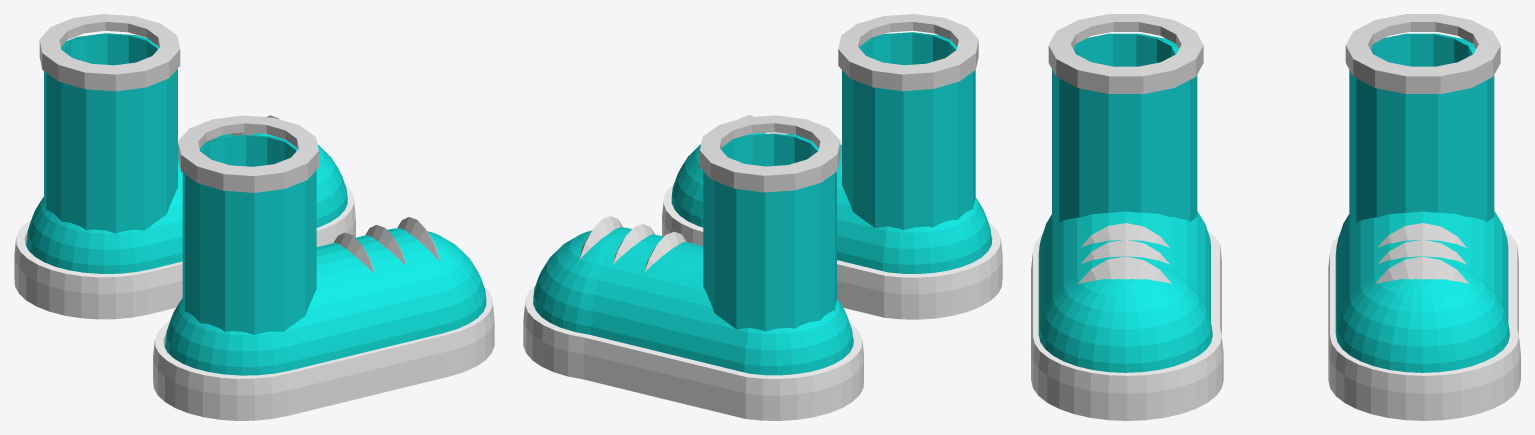
File: women shoes3 .fbx
The picture shows the model from 3 angles, left to right: view 1: azimuth 30°, elevation 25°; view 2: azimuth 150°, elevation 25°; view 3: azimuth 270°, elevation 25°; orthographic projection. The views are drawn at different scales.
Parts seen in each view (by area): view 1: Sphere.002, Cylinder.003, Cylinder.001, Sphere.003, Sphere, Sphere.001, Cylinder.002, Cylinder.004, Torus.003; view 2: Sphere, Cylinder.001, Cylinder.003, Sphere.001, Sphere.002, Sphere.003, Cylinder.002, Cylinder.004, Torus; view 3: Sphere, Sphere.002, Cylinder.003, Cylinder.001, Sphere.001, Sphere.003, Cylinder.002, Cylinder.004, Torus.003, Torus.
Part boxes in pixels (x1=…): Sphere.002: x1=165, y1=228, x2=486, y2=375; Cylinder.003: x1=182, y1=134, x2=316, y2=334; Cylinder.001: x1=44, y1=33, x2=177, y2=233; Sphere.003: x1=153, y1=286, x2=494, y2=420; Sphere: x1=26, y1=133, x2=347, y2=273; Sphere.001: x1=14, y1=185, x2=355, y2=319; Cylinder.002: x1=39, y1=14, x2=180, y2=91; Cylinder.004: x1=178, y1=115, x2=318, y2=192; Torus.003: x1=333, y1=217, x2=439, y2=273; Sphere: x1=533, y1=227, x2=853, y2=375; Cylinder.001: x1=703, y1=133, x2=836, y2=331; Cylinder.003: x1=842, y1=32, x2=975, y2=230; Sphere.001: x1=523, y1=285, x2=863, y2=420; Sphere.002: x1=671, y1=132, x2=991, y2=273; Sphere.003: x1=662, y1=184, x2=1002, y2=319; Cylinder.002: x1=700, y1=115, x2=840, y2=192; Cylinder.004: x1=838, y1=14, x2=978, y2=91; Torus: x1=579, y1=216, x2=686, y2=272; Sphere: x1=1335, y1=211, x2=1509, y2=372; Sphere.002: x1=1038, y1=211, x2=1212, y2=372; Cylinder.003: x1=1052, y1=33, x2=1197, y2=222; Cylinder.001: x1=1349, y1=33, x2=1494, y2=222; Sphere.001: x1=1328, y1=231, x2=1520, y2=420; Sphere.003: x1=1031, y1=231, x2=1223, y2=420; Cylinder.002: x1=1345, y1=14, x2=1500, y2=93; Cylinder.004: x1=1048, y1=14, x2=1203, y2=93; Torus.003: x1=1077, y1=223, x2=1172, y2=284; Torus: x1=1375, y1=223, x2=1468, y2=284.
Size of the model in its own units: 103 by 75.81 by 128.
